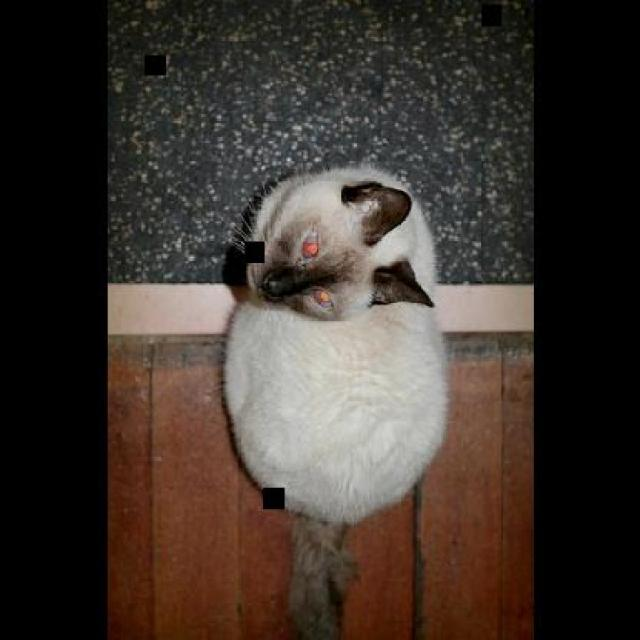unauthorized: (218, 164, 451, 638)
